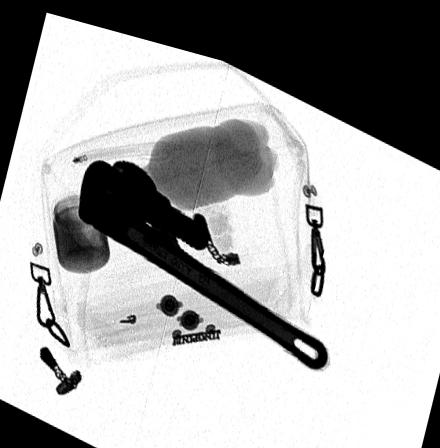Wrench: (75, 151, 330, 353)
